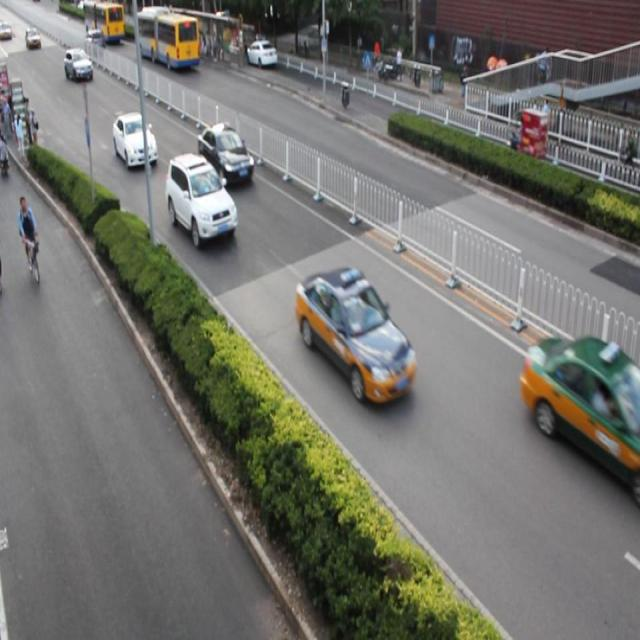car: (520, 334, 640, 486), (295, 267, 416, 405), (165, 154, 238, 249), (198, 123, 253, 190), (112, 112, 156, 171), (244, 41, 276, 68)
van: (135, 7, 199, 71)
